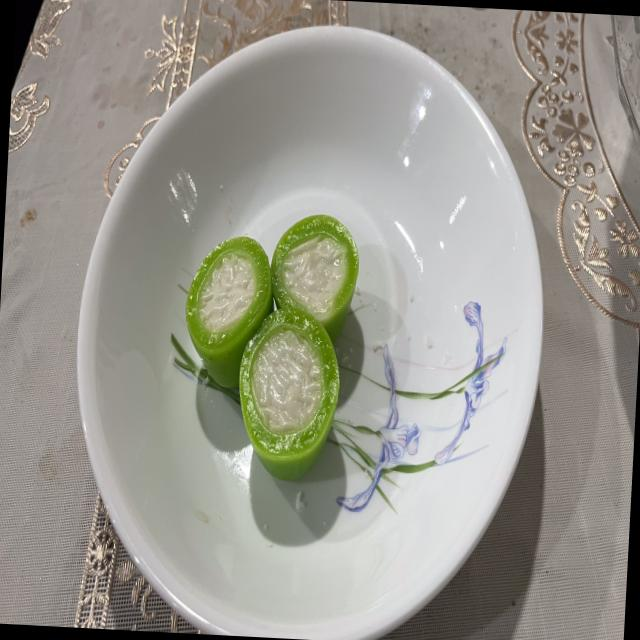nona-manis: (239, 307, 340, 481), (185, 236, 274, 389), (271, 215, 359, 343)
